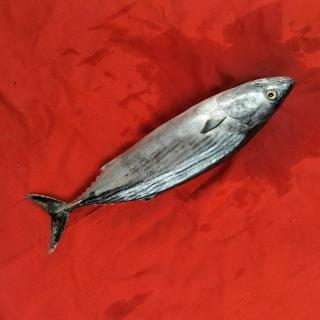Ikan: (23, 73, 305, 268)
